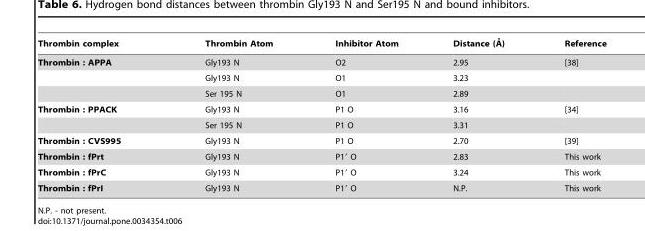table: (37, 36, 605, 192)
table column: (162, 36, 303, 192), (37, 36, 162, 192), (303, 36, 425, 192), (425, 36, 533, 192), (533, 36, 605, 192)
table column header: (37, 36, 605, 52)
table row: (37, 52, 605, 69), (37, 36, 605, 52), (37, 69, 605, 85), (37, 85, 605, 101), (37, 101, 605, 117), (37, 132, 605, 148), (37, 148, 605, 164), (37, 164, 605, 180), (37, 117, 605, 132), (37, 180, 605, 192)
table spanning cell: (37, 52, 162, 101), (37, 101, 162, 132)
